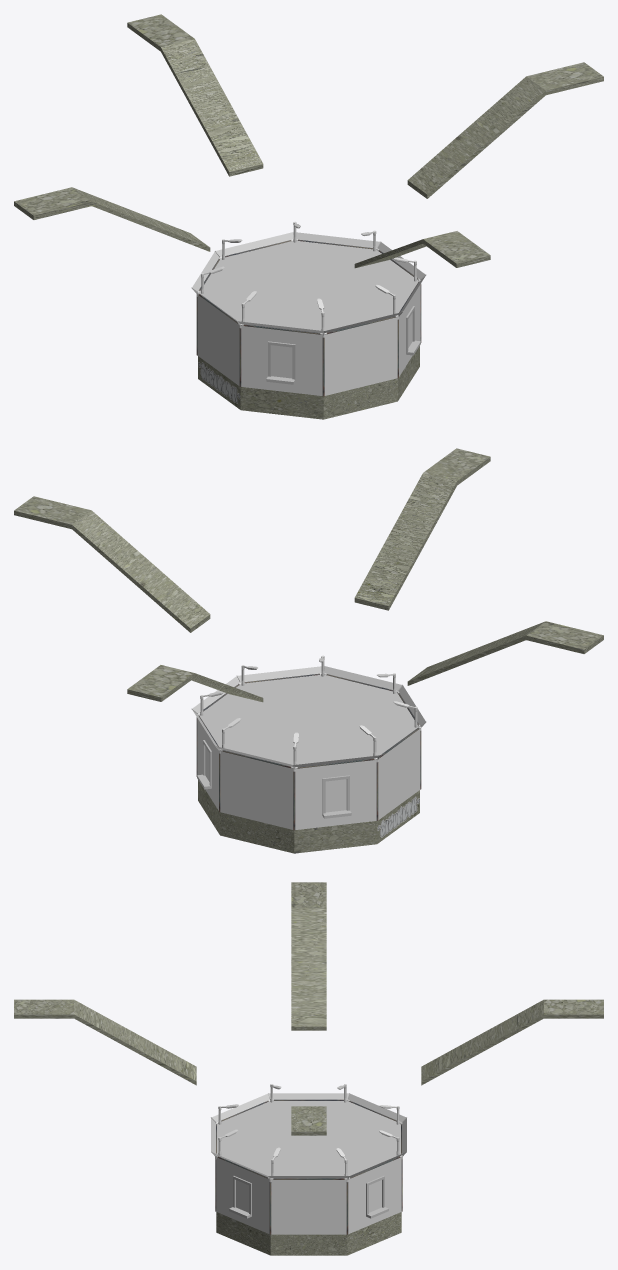
The model's file is Cage_Fight_00 V6.fbx.
3 views of the same model, one above another, from view 1: azimuth 30°, elevation 25°; view 2: azimuth 150°, elevation 25°; view 3: azimuth 270°, elevation 25° (orthographic). The views are drawn at different scales.
Visible parts, largest first — view 1: Ramps, Cage, Cage Roof, Cage Floor, Razor Wire, Cage Floor (Night), STREET LAMP, Graffiti; view 2: Ramps, Cage, Cage Roof, Cage Floor, Razor Wire, STREET LAMP, Graffiti; view 3: Ramps, Cage, Cage Roof, Cage Floor, Razor Wire, STREET LAMP.
Boxes of the visible parts, <box> form: Ramps: <box>14,14,603,268</box>; Cage: <box>196,239,421,396</box>; Cage Roof: <box>199,241,418,330</box>; Cage Floor: <box>198,346,419,419</box>; Razor Wire: <box>191,232,426,335</box>; Cage Floor (Night): <box>240,387,323,419</box>; STREET LAMP: <box>201,221,416,330</box>; Graffiti: <box>198,362,240,403</box>; Ramps: <box>14,448,603,702</box>; Cage: <box>196,673,421,830</box>; Cage Roof: <box>199,675,418,764</box>; Cage Floor: <box>198,780,419,853</box>; Razor Wire: <box>191,666,426,769</box>; STREET LAMP: <box>200,655,417,764</box>; Graffiti: <box>377,796,419,837</box>; Ramps: <box>14,882,603,1135</box>; Cage: <box>215,1099,402,1234</box>; Cage Roof: <box>217,1101,400,1175</box>; Cage Floor: <box>216,1212,401,1255</box>; Razor Wire: <box>211,1093,406,1179</box>; STREET LAMP: <box>218,1084,399,1175</box>.
Size of the model in its own units: 58.59 by 22.94 by 58.59.
